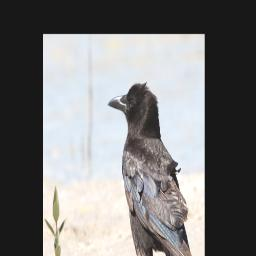Crow: (107, 81, 196, 256)
